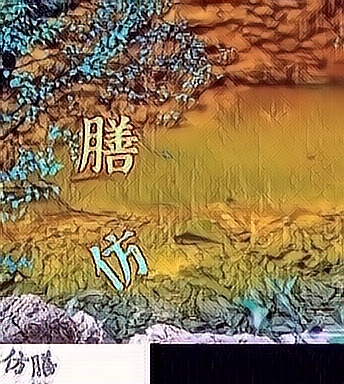B7C2: (90, 228, 150, 292)
C9C5: (78, 111, 138, 175)
